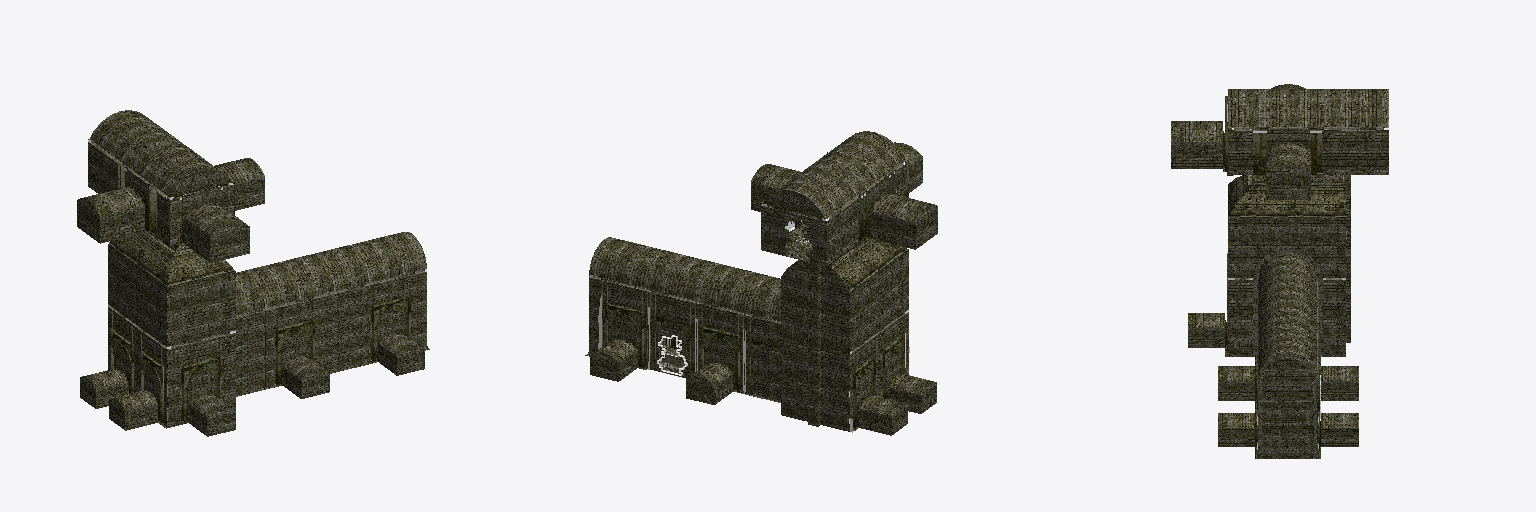
3 renders of one model, left to right at view 1: azimuth 30°, elevation 25°; view 2: azimuth 150°, elevation 25°; view 3: azimuth 270°, elevation 25°, orthographic.
Parts seen in each view (by area): view 1: mesh3, mesh4, mesh2; view 2: mesh3, mesh4, mesh2, mesh7; view 3: mesh3, mesh2, mesh4.
Boxes of the visible parts, x1,y1,x2,y2 form: mesh3: [77, 110, 426, 436]; mesh4: [110, 149, 427, 423]; mesh2: [88, 139, 429, 428]; mesh3: [589, 131, 937, 435]; mesh4: [588, 152, 908, 428]; mesh2: [585, 160, 908, 430]; mesh7: [590, 162, 909, 432]; mesh3: [1171, 84, 1388, 458]; mesh2: [1223, 127, 1388, 458]; mesh4: [1223, 96, 1348, 457].
Bounding box in the file's own units: 22.9 × 16.73 × 13.29.
Materials: 10 (7 with a texture image).